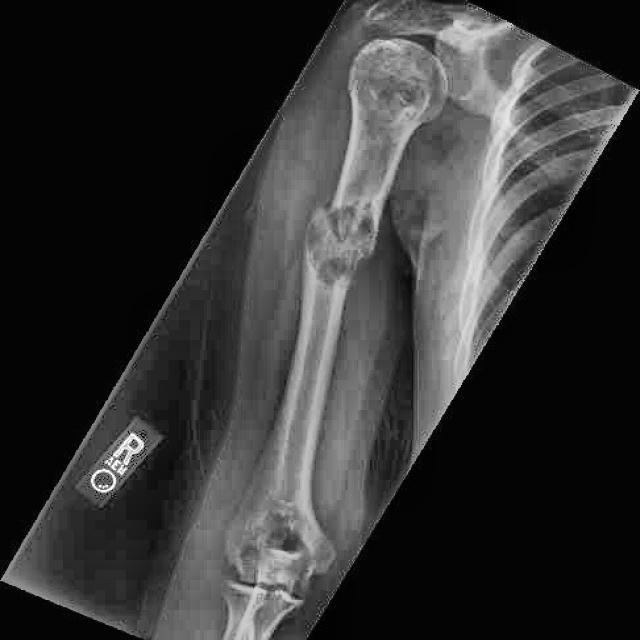humerus: (271, 169, 433, 332)
